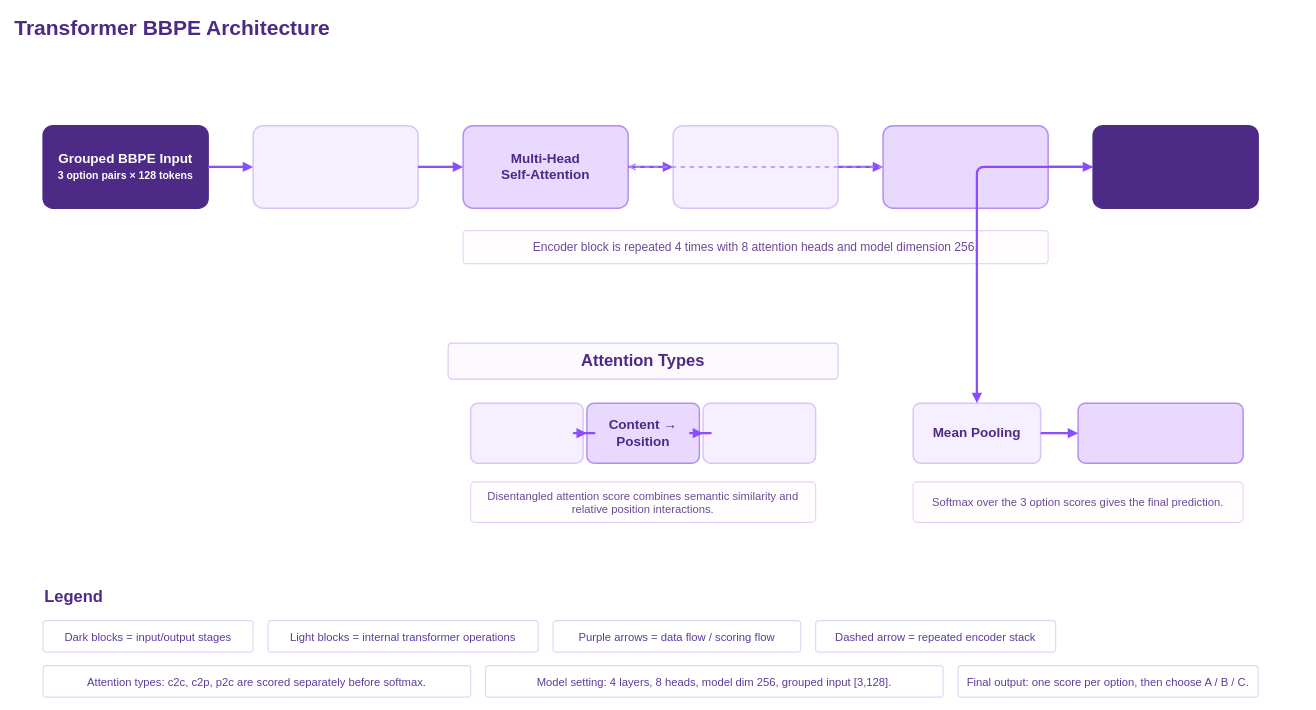
Some shapes in this 1316 by 710 pixel diagram are drawn without their labels. The shapes that lost their labels are listed below. From the top down, each one's centre as x and y in pixels, then its label:
At (x=335, y=166): "Token + Position Embeddings".
At (x=755, y=166): "Feed-Forward Network".
At (x=965, y=166): "Residual + LayerNorm".
At (x=1175, y=166): "MLP Classifier scores A / B / C".
At (x=527, y=433): "Content → Content".
At (x=759, y=433): "Position → Content".
At (x=1160, y=433): "Categorical Cross-Entropy".
